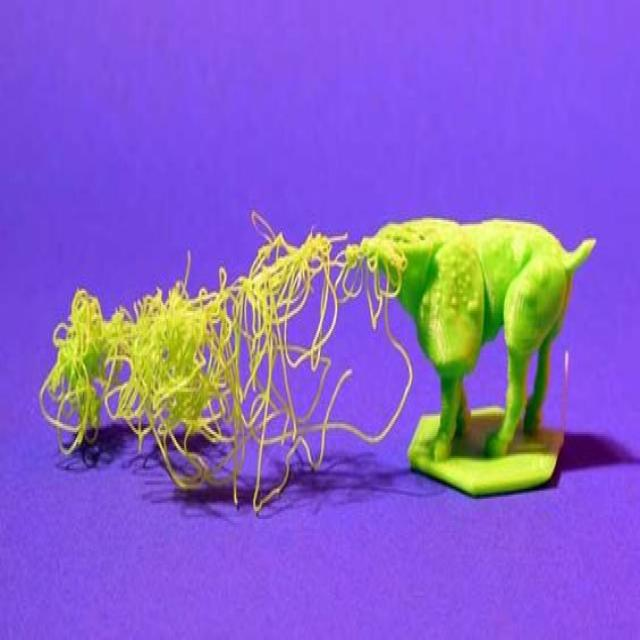spaghetti: (34, 220, 389, 520)
